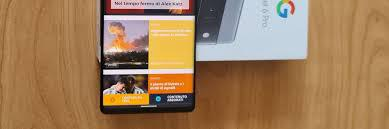Smartphone: (100, 1, 190, 120)
